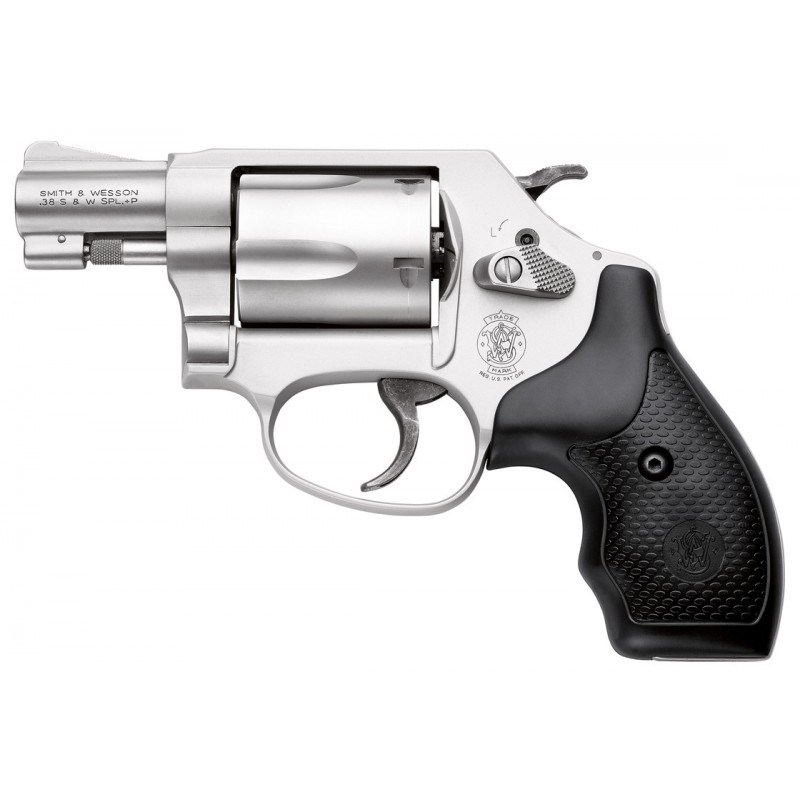Arma Real: (18, 142, 782, 665)
